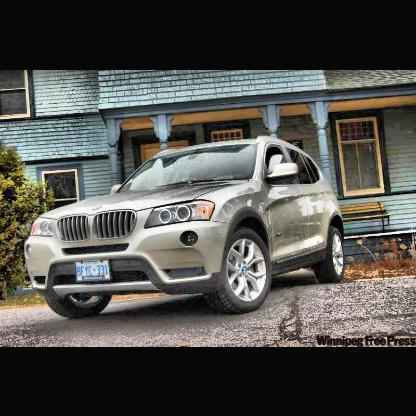BMW X3 SUV 2012: (24, 135, 348, 321)
